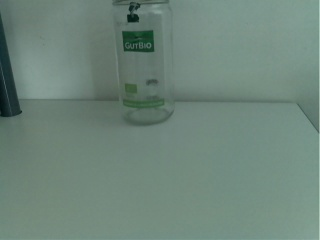pote cristal: (115, 1, 177, 124)
